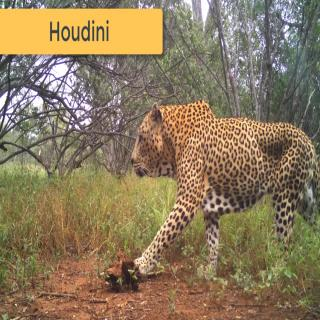Leopard: (127, 100, 320, 280)
